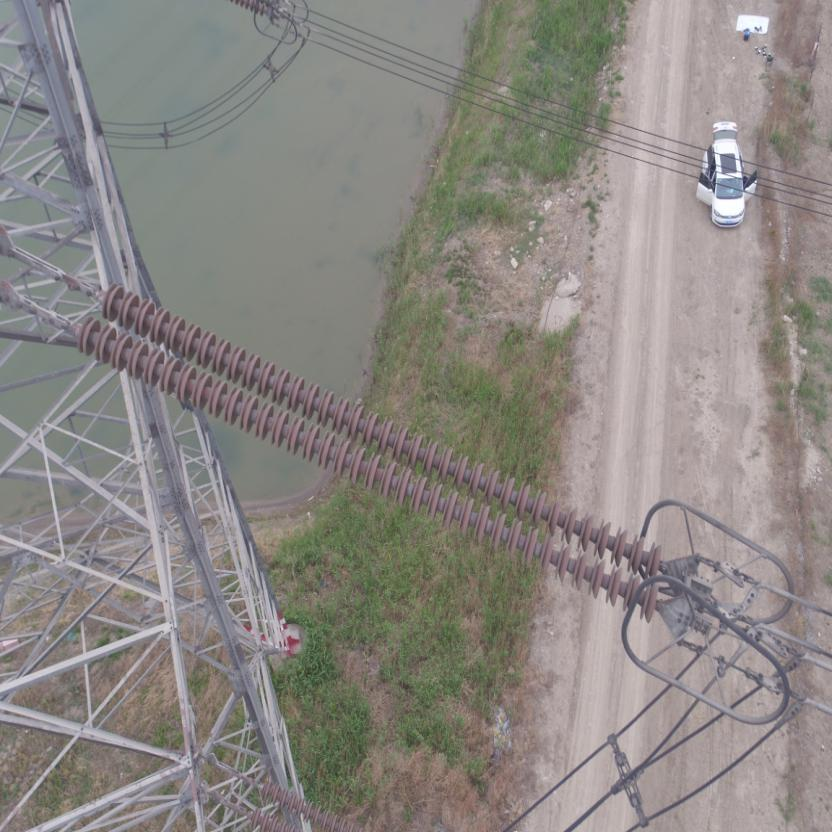insulator: (51, 276, 671, 625)
